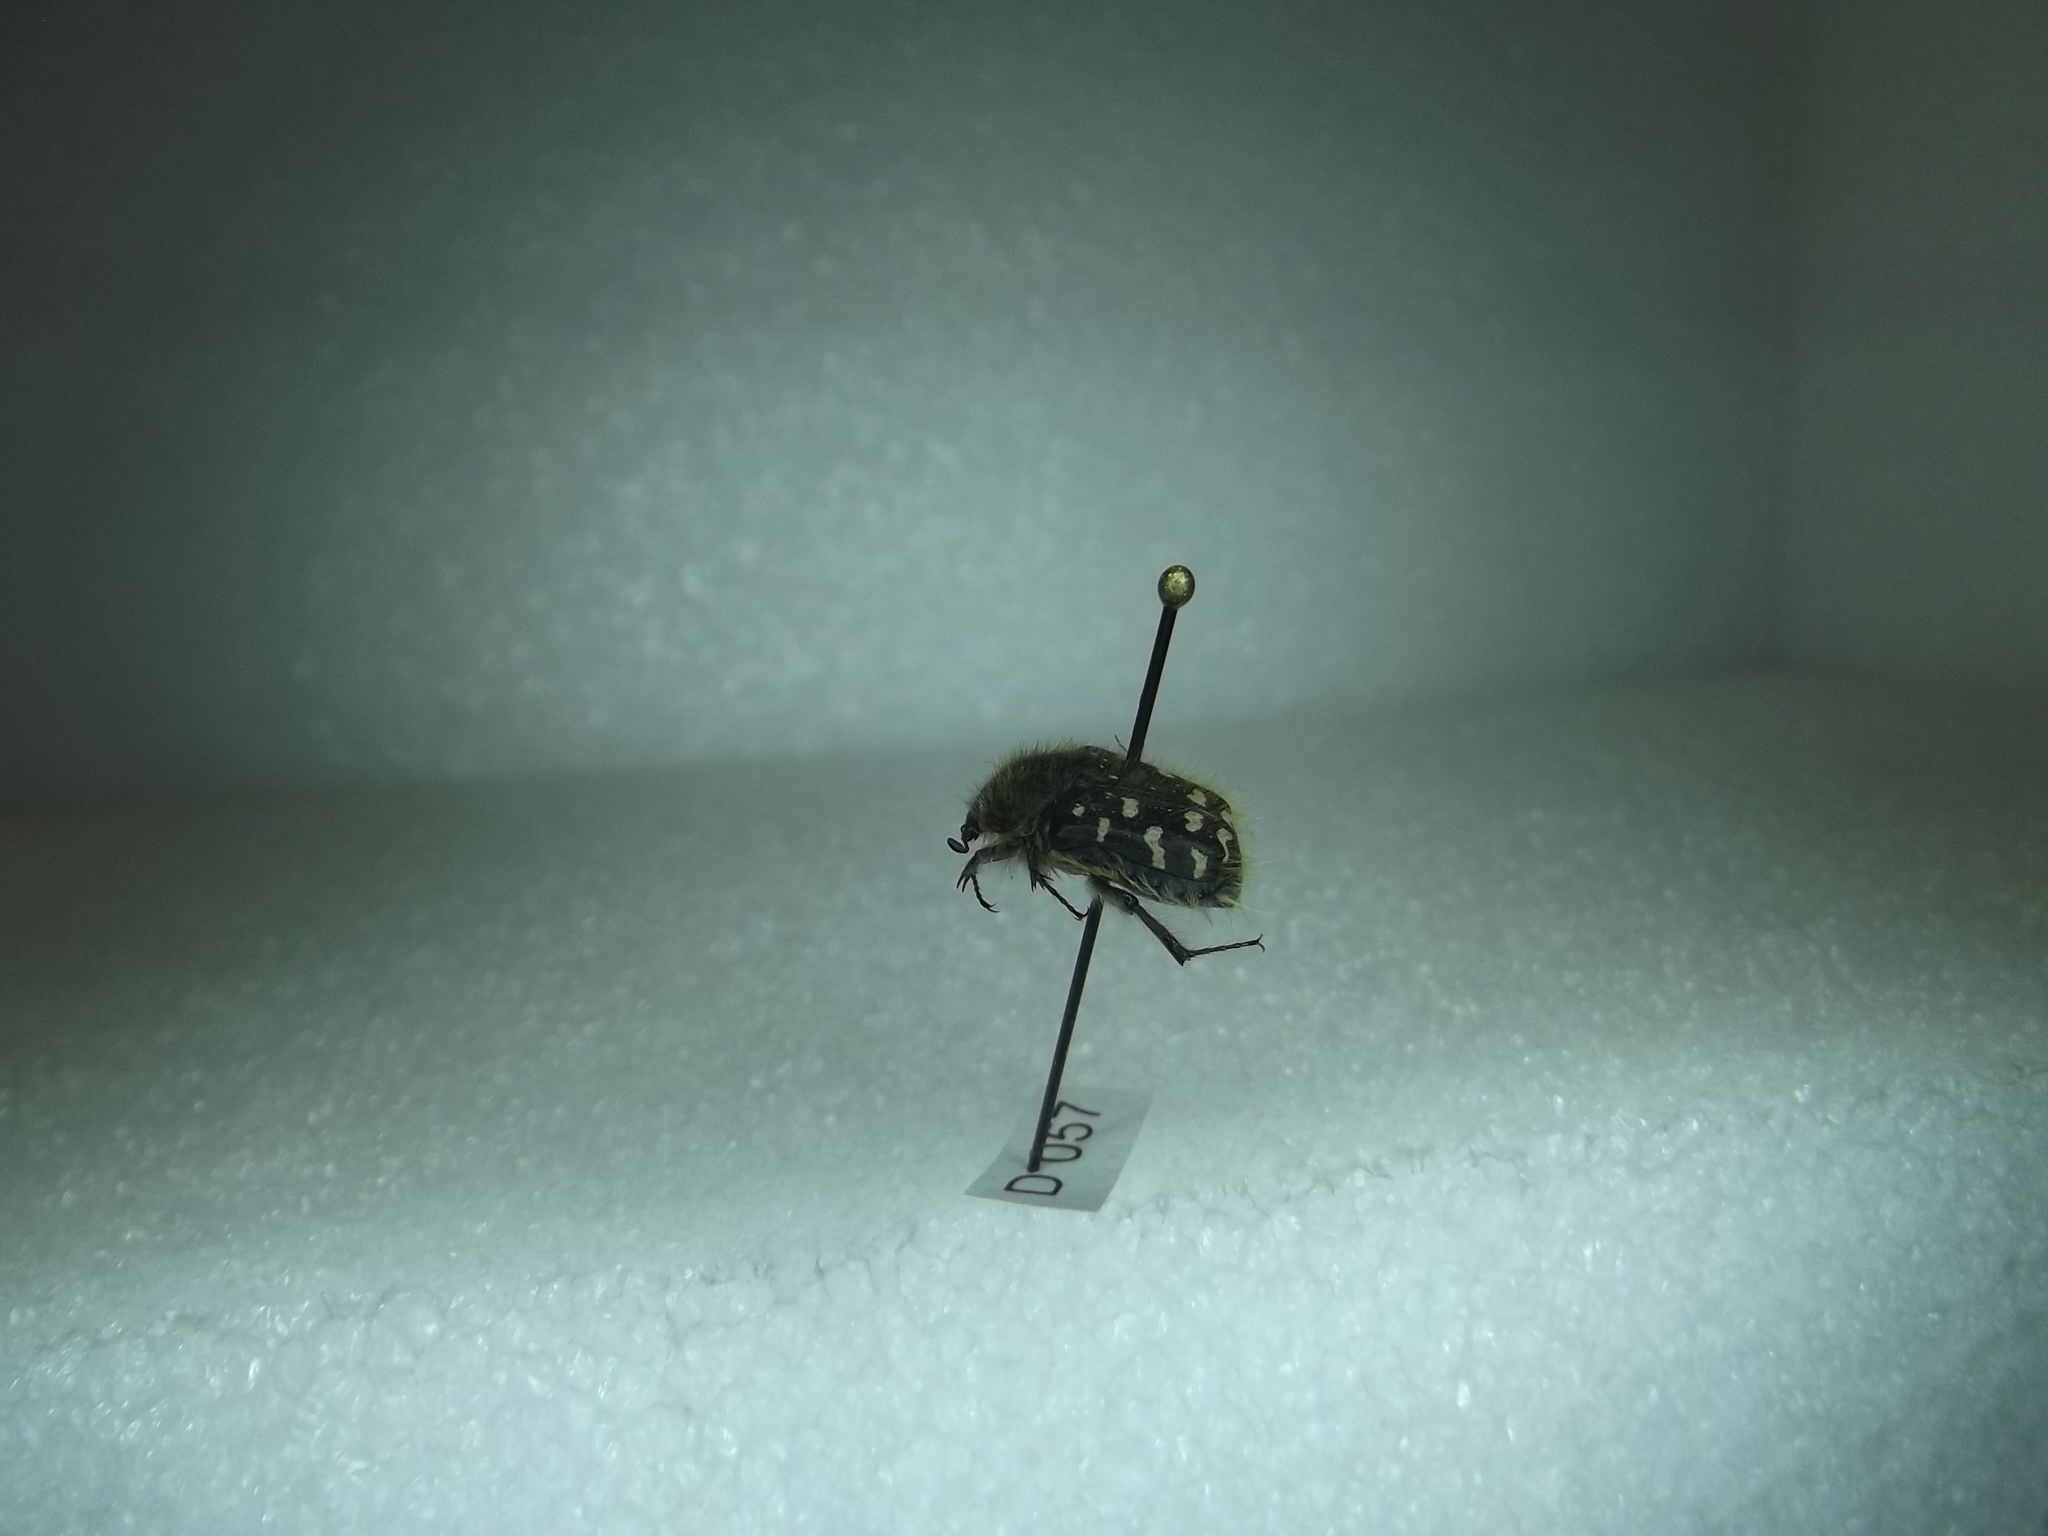Tropinota_hirta: (935, 715, 1288, 971)
